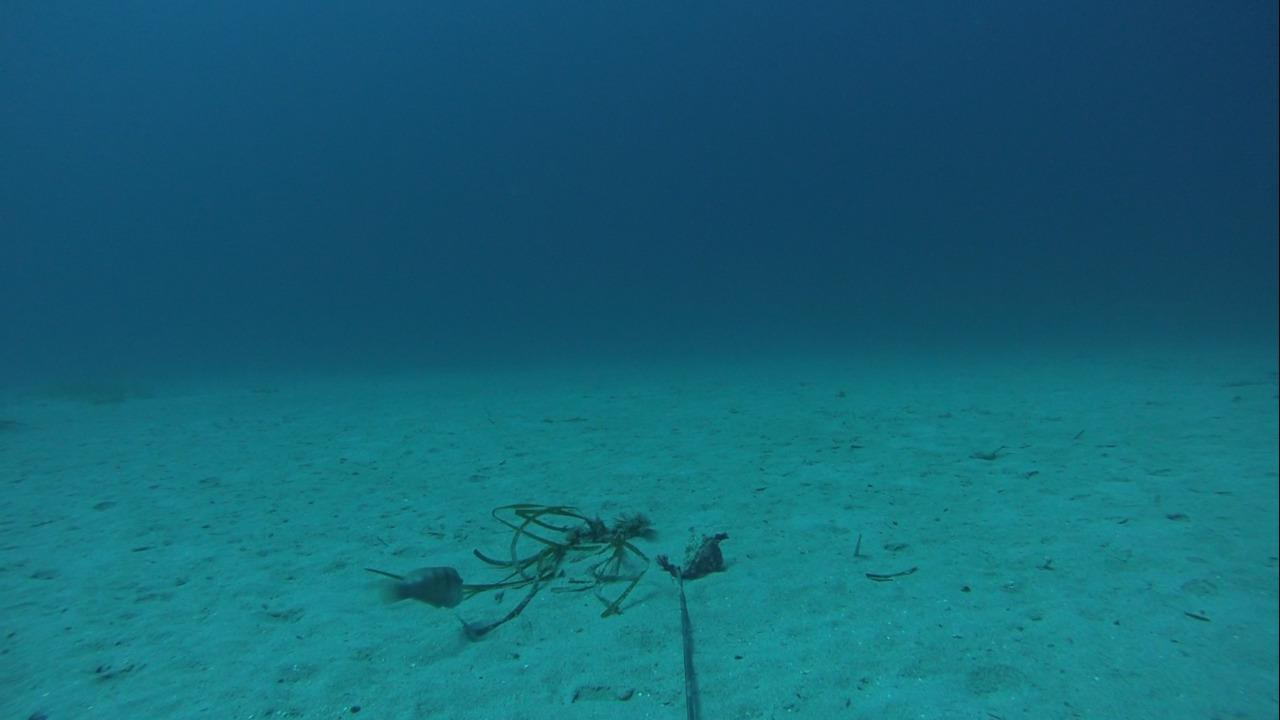raor: (375, 563, 467, 612)
